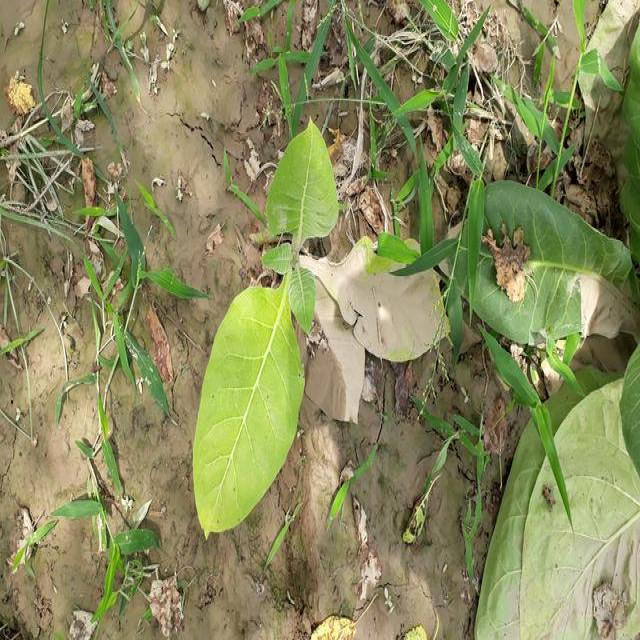crop: (182, 132, 446, 534), (482, 167, 640, 640)
